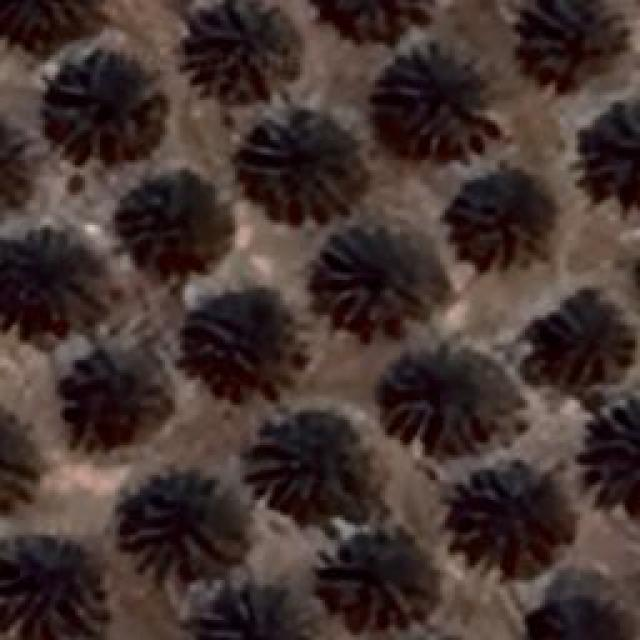PalmTree: (240, 100, 365, 225), (112, 470, 245, 582), (378, 38, 500, 160), (40, 49, 158, 162), (175, 0, 302, 102), (315, 225, 443, 325), (392, 355, 508, 463), (120, 167, 228, 275), (175, 298, 295, 394), (256, 412, 364, 518), (458, 465, 570, 563), (60, 350, 168, 448), (0, 534, 102, 637), (508, 0, 628, 80), (317, 537, 425, 625), (1, 238, 99, 330), (450, 178, 550, 262), (578, 403, 640, 524), (0, 0, 120, 60), (541, 294, 619, 384), (316, 0, 436, 48), (541, 582, 631, 640), (0, 115, 46, 225), (0, 408, 46, 518), (197, 590, 295, 640), (585, 104, 640, 184)
